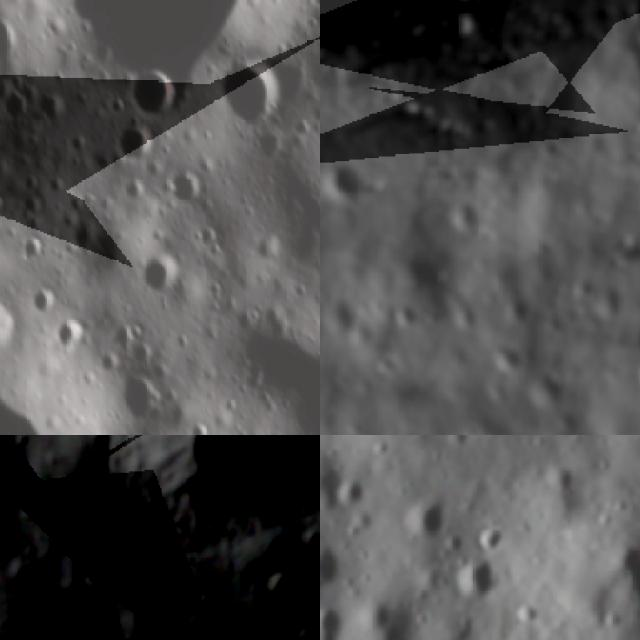crater: (97, 435, 320, 540), (218, 52, 296, 135), (384, 475, 462, 555), (432, 540, 512, 616), (111, 367, 174, 426), (128, 64, 185, 126), (320, 522, 358, 605), (529, 453, 585, 508), (322, 154, 387, 201), (326, 464, 380, 520), (50, 316, 104, 366), (138, 251, 189, 303), (0, 298, 31, 378), (467, 516, 515, 566), (247, 529, 296, 577), (116, 116, 160, 168), (167, 162, 212, 212), (451, 190, 494, 242), (320, 586, 361, 640), (171, 611, 239, 640), (6, 558, 54, 592), (35, 86, 72, 130), (28, 284, 66, 324), (530, 373, 572, 408), (263, 570, 301, 608), (0, 85, 35, 125), (494, 339, 529, 376), (18, 230, 50, 266), (392, 299, 422, 331), (187, 417, 223, 435), (48, 528, 74, 552), (523, 425, 560, 435)
